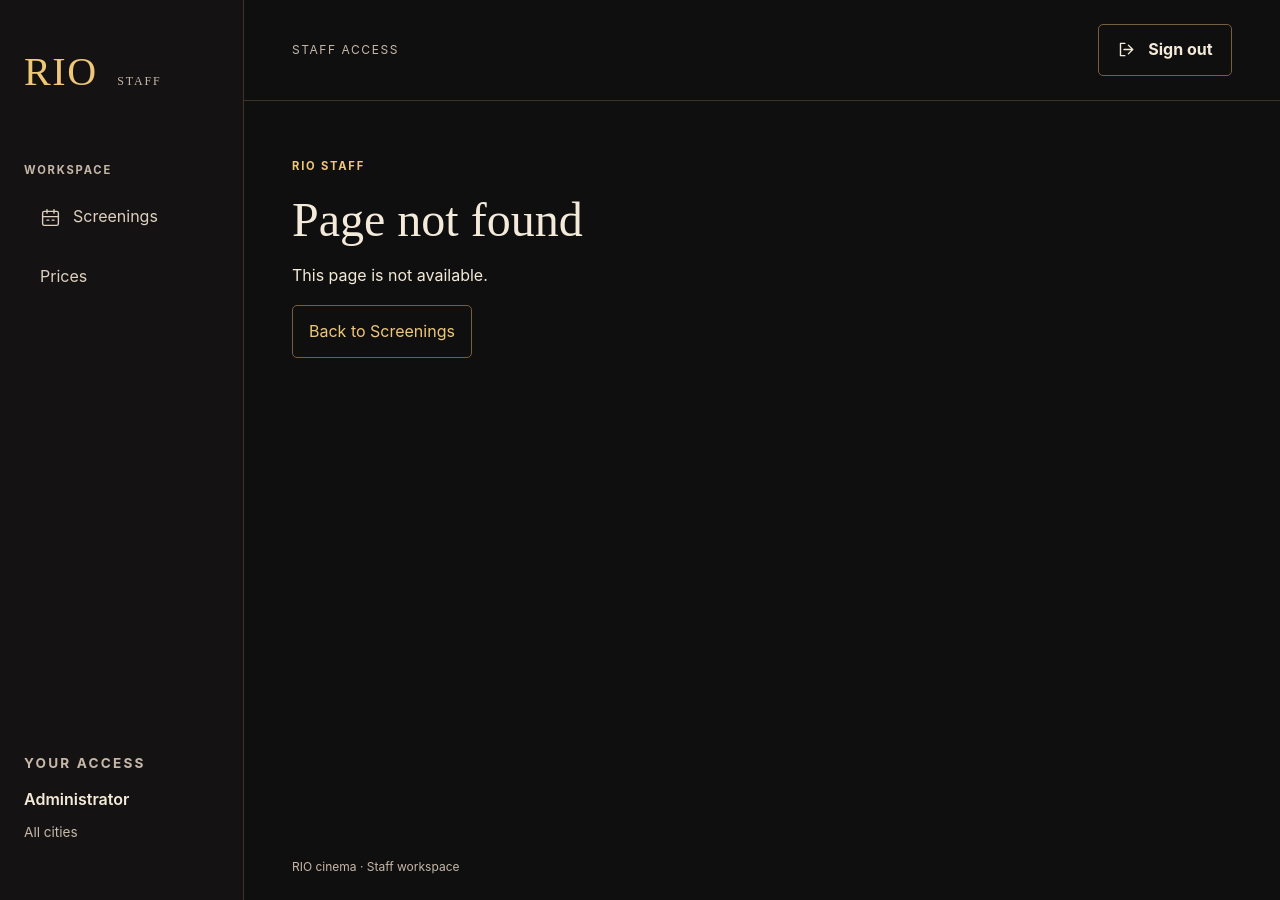
Scenario: unknown protected route is accessible only after bootstrap and has working return navigation
Expected: the heading "Page not found" is shown, [292,193,583,246]
Click the link "Back to Screenings" at (382, 332), box [292,305,472,358]
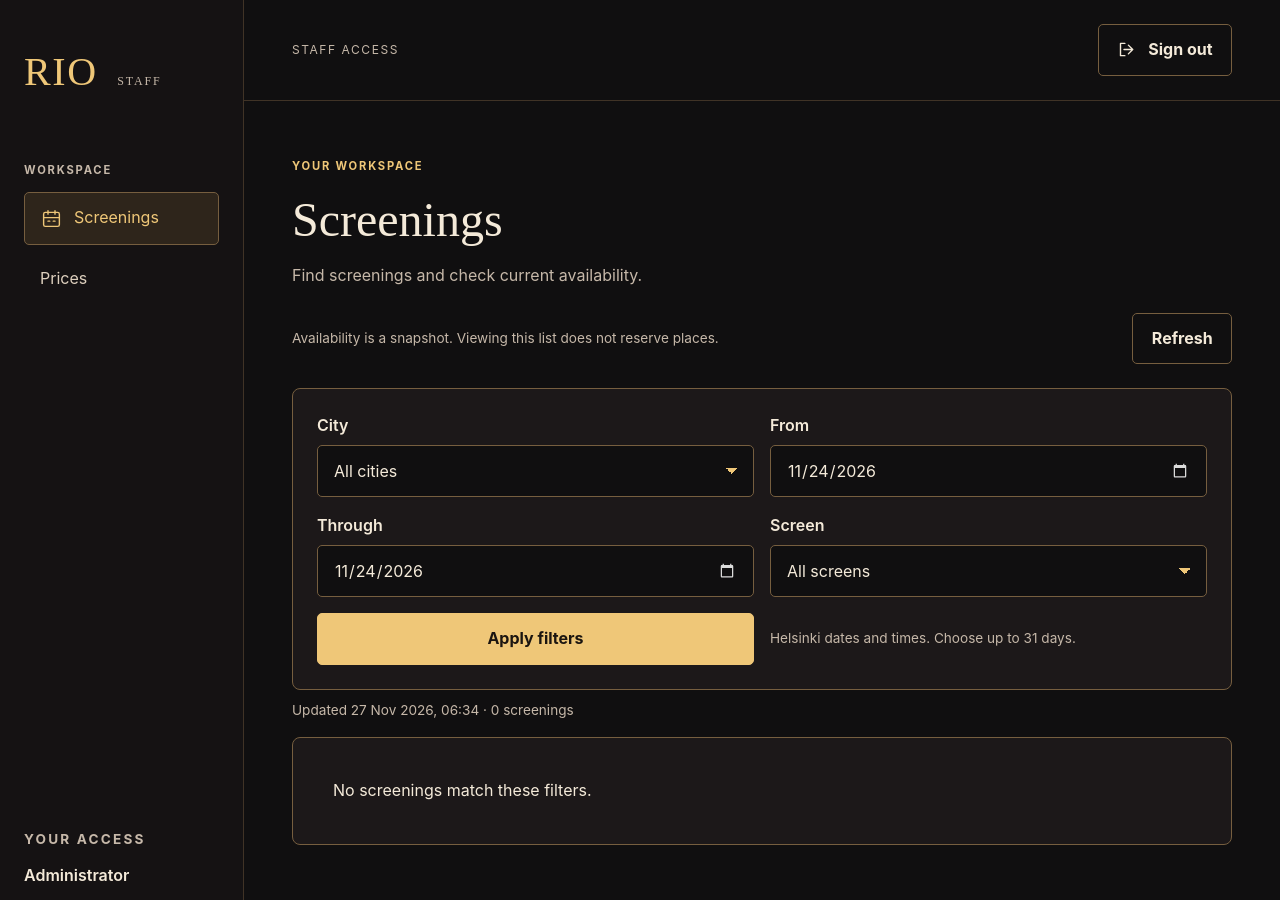
Result: the heading "Screenings" is shown at [292,193,503,246]
